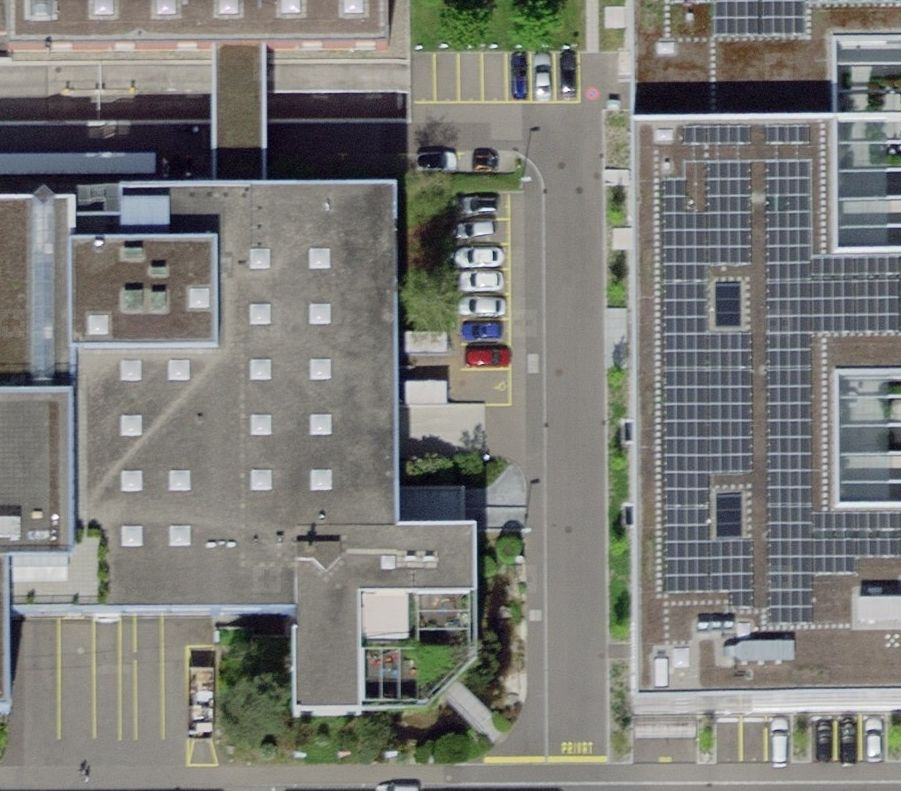solar: (660, 125, 901, 623), (763, 158, 901, 624), (661, 161, 753, 606), (712, 1, 808, 36), (679, 124, 753, 146), (762, 123, 812, 146)
